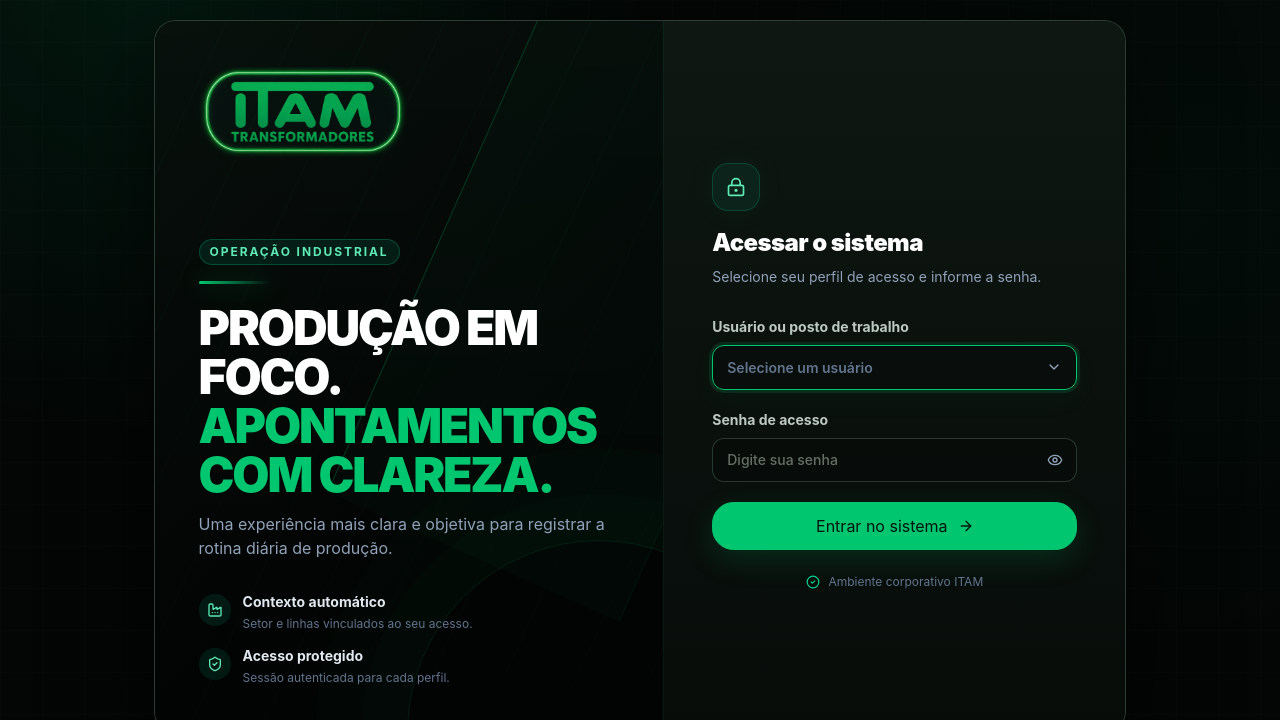
Test: LoginPage › mantém o usuário na tela e comunica a falha devolvida pela autenticação
The image size is (1280, 720).
Press Arrowdown Enter
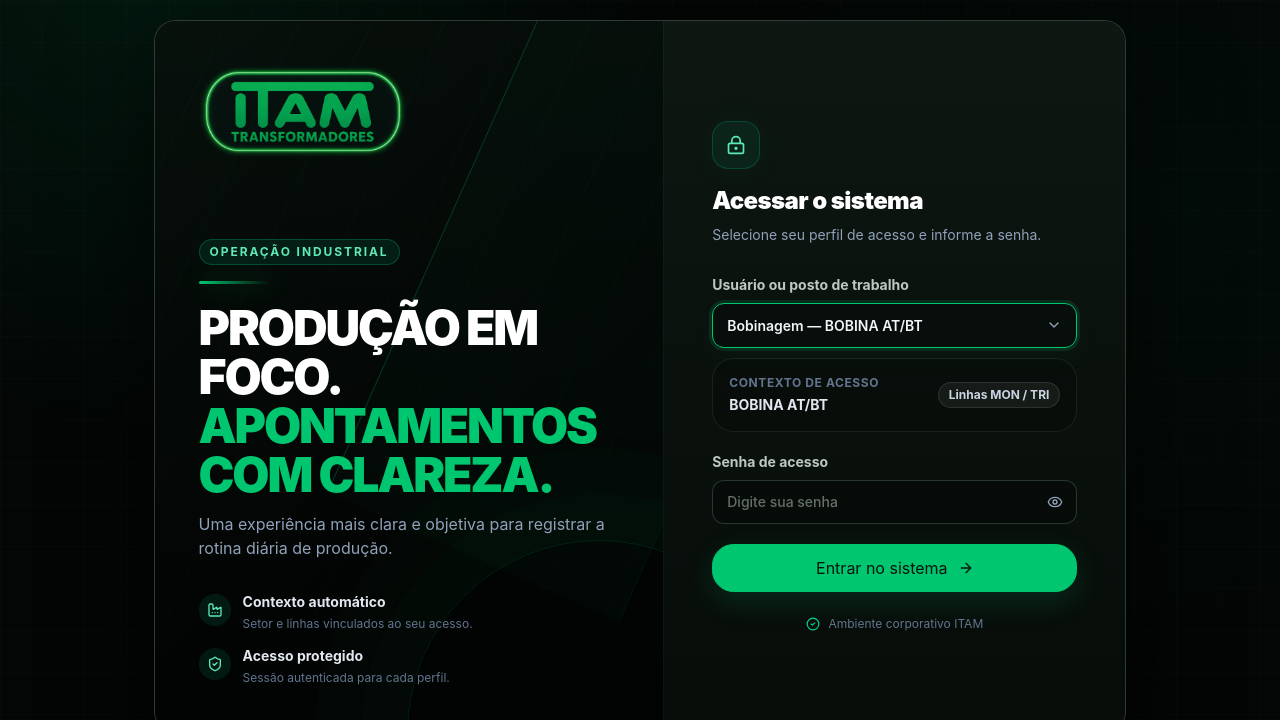
In the password field labelled "Senha de acesso": (895, 502) [712,480,1077,524], type "senha-incorreta"
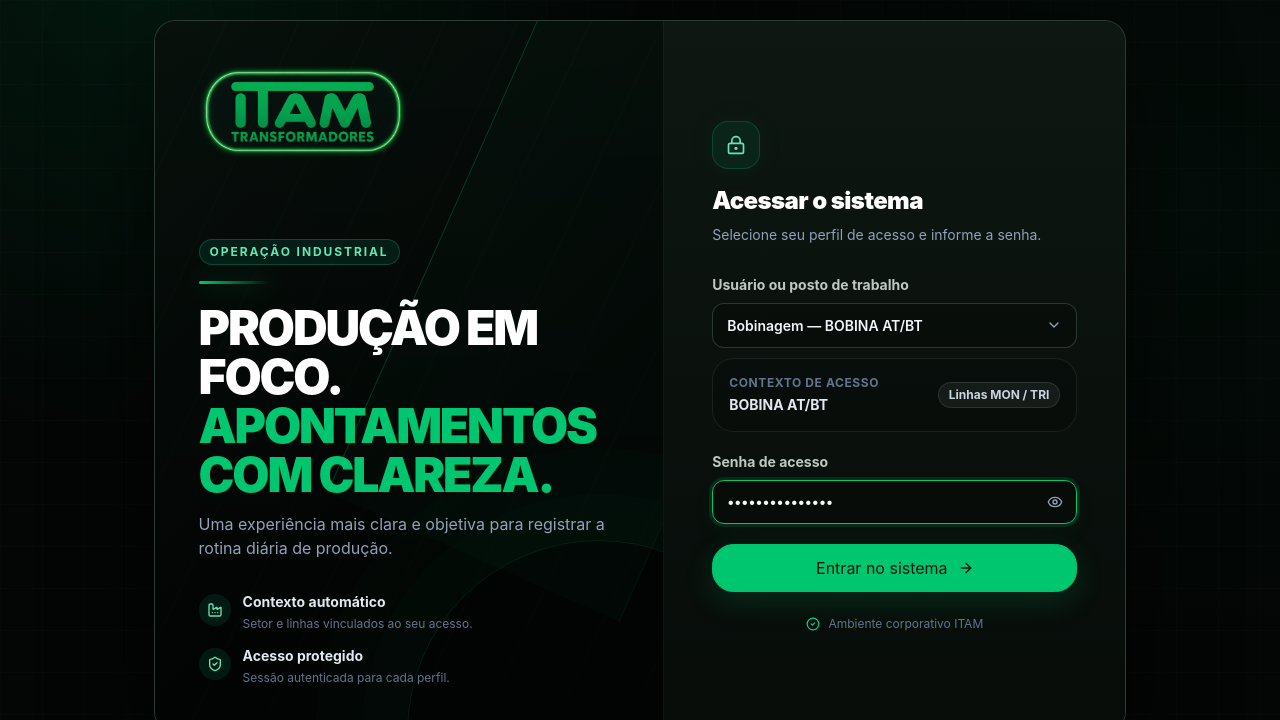
Click the button "Entrar no sistema": (895, 568) [712,544,1077,592]
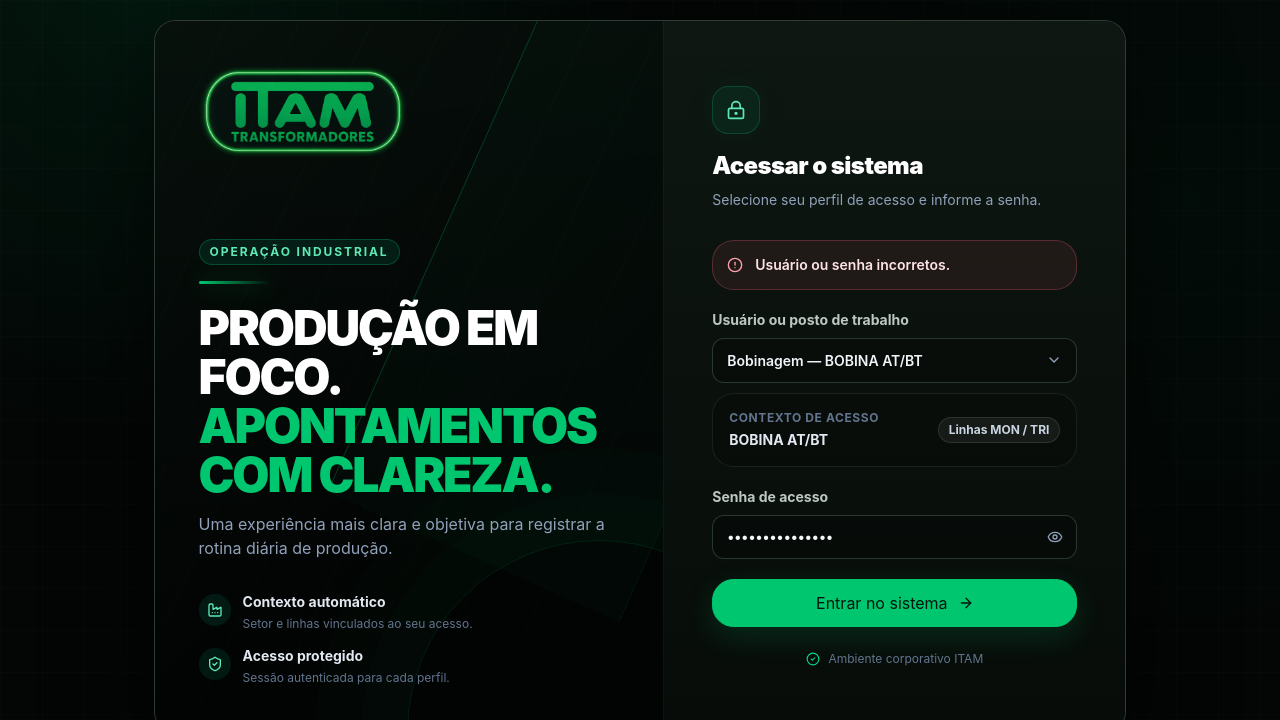
Expected: the message reads "Usuário ou senha incorretos.", [755,256,950,273]
